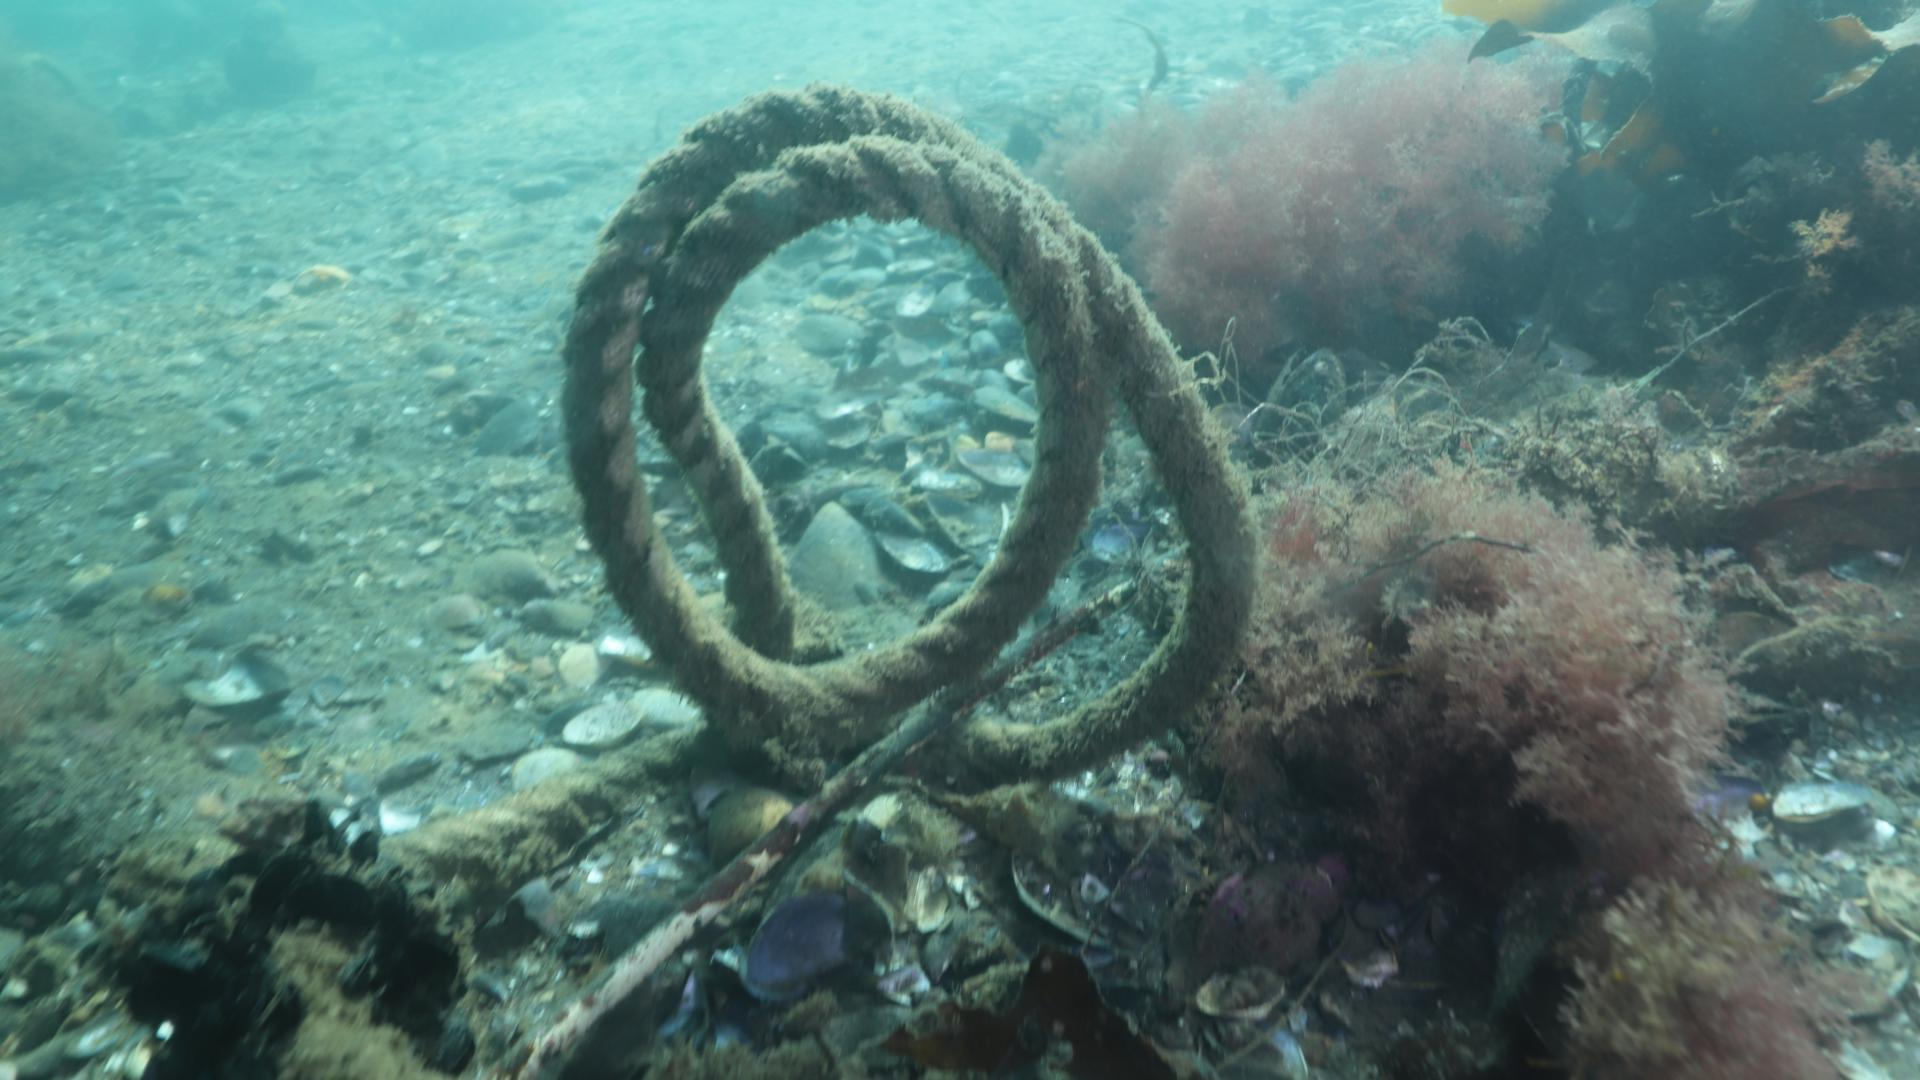bundle of ropes: (375, 76, 1265, 905)
